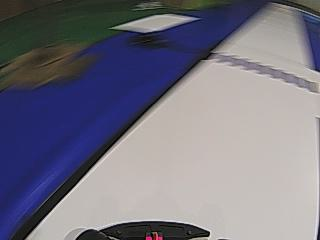CrossWalk: (203, 49, 315, 96)
